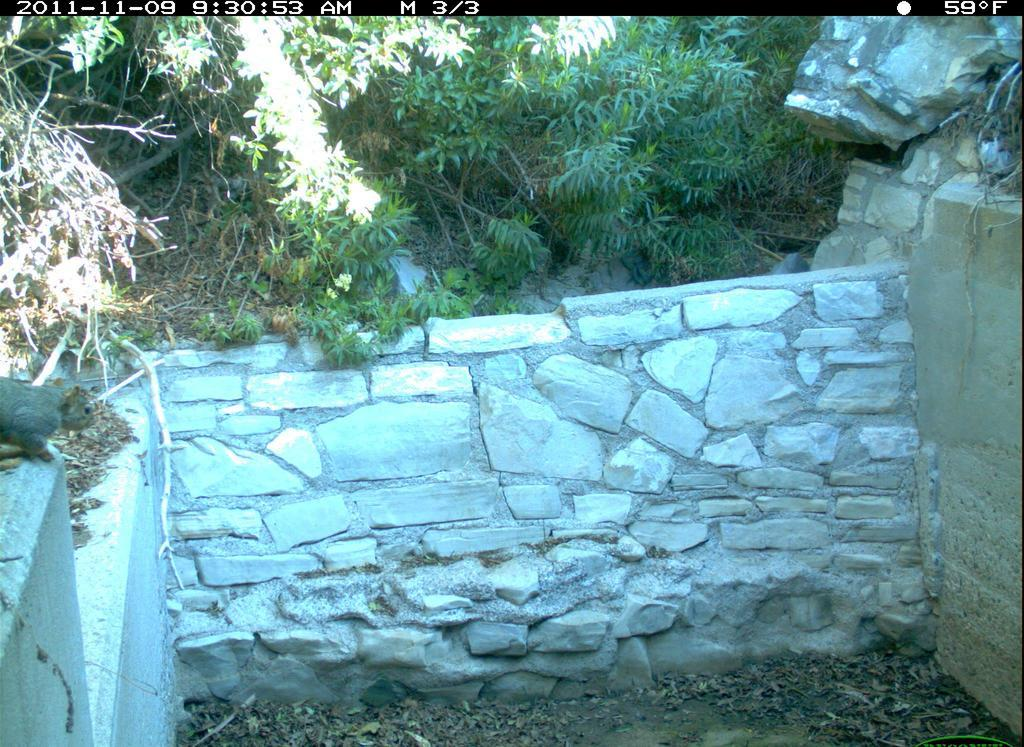squirrel: (3, 365, 109, 481)
